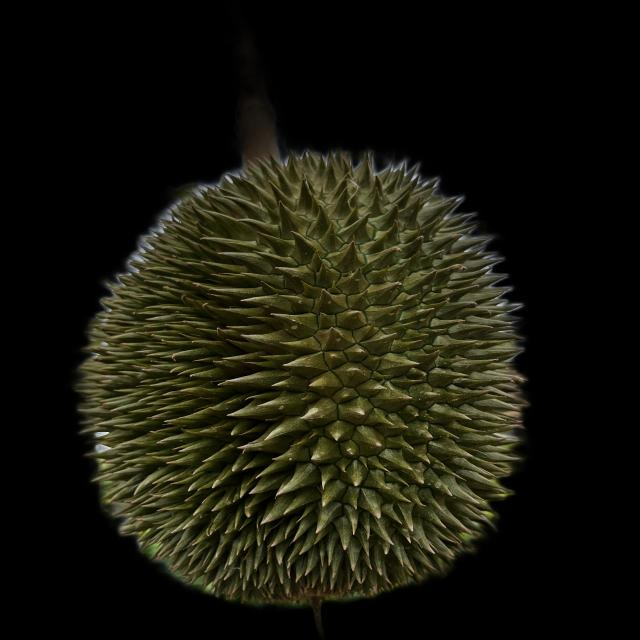immature: (71, 141, 532, 608)
